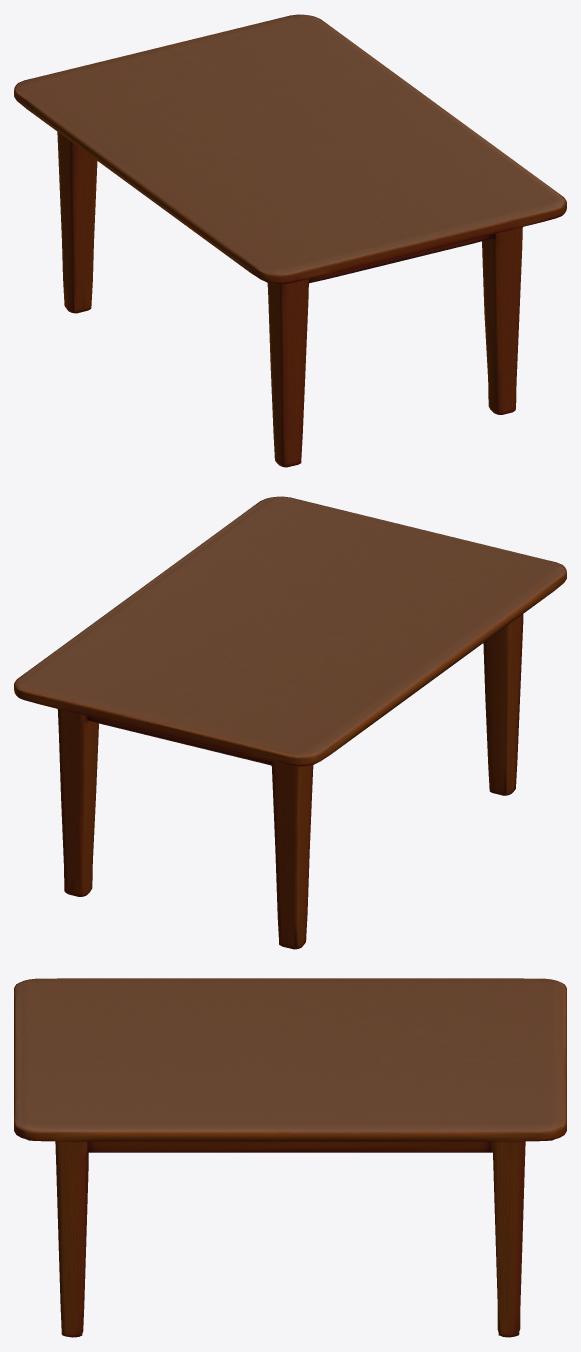
File: tile2.glb
The picture shows the model from 3 angles, top to bottom: view 1: azimuth 30°, elevation 25°; view 2: azimuth 150°, elevation 25°; view 3: azimuth 270°, elevation 25°; orthographic projection. The views are drawn at different scales.
Parts seen in each view (by area): view 1: tripo_node_fdbb73a5-1b76-488b-8945-deffc15a4c95; view 2: tripo_node_fdbb73a5-1b76-488b-8945-deffc15a4c95; view 3: tripo_node_fdbb73a5-1b76-488b-8945-deffc15a4c95.
Boxes of the visible parts, x1,y1,x2,y2 form: tripo_node_fdbb73a5-1b76-488b-8945-deffc15a4c95: (14,14,566,467); tripo_node_fdbb73a5-1b76-488b-8945-deffc15a4c95: (14,496,566,949); tripo_node_fdbb73a5-1b76-488b-8945-deffc15a4c95: (14,978,566,1337).
Size of the model in its own units: 1.02 by 0.6922 by 1.53.
1 material, 1 textured.
